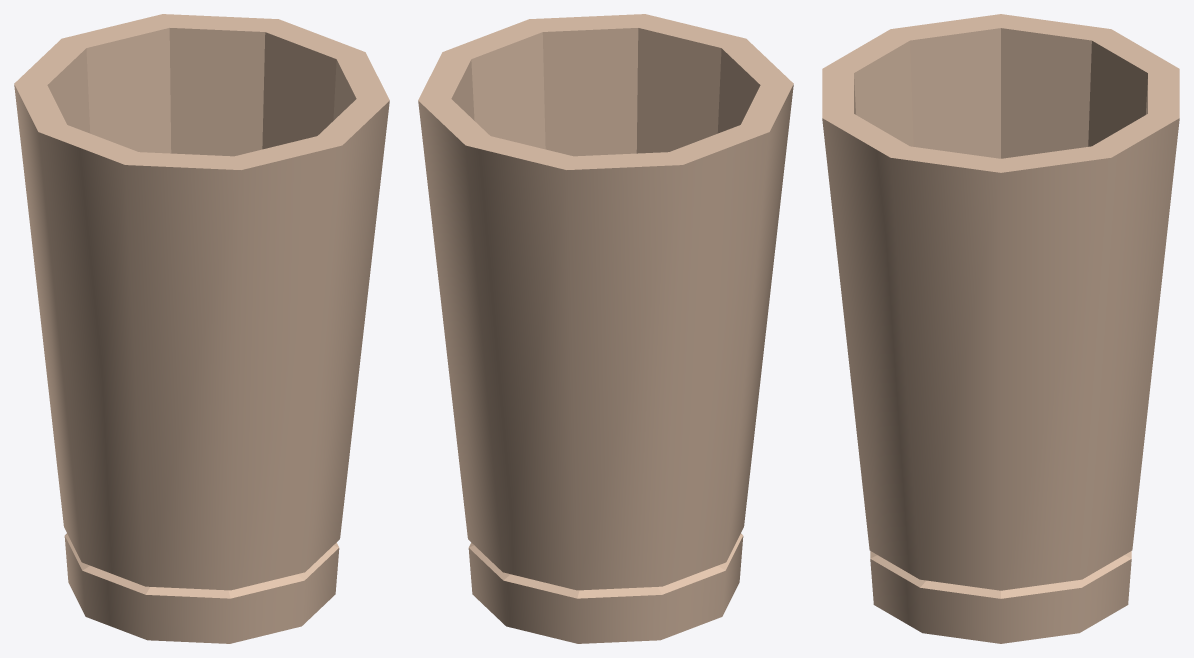
Rendered from SM_plastic_cup_01.fbx.
3 views of the same model, side by side, from view 1: azimuth 30°, elevation 25°; view 2: azimuth 150°, elevation 25°; view 3: azimuth 270°, elevation 25° (orthographic).
Visible parts, largest first — view 1: plastic_cup01; view 2: plastic_cup01; view 3: plastic_cup01.
Boxes of the visible parts, x1=… form: plastic_cup01: x1=14, y1=14, x2=389, y2=643; plastic_cup01: x1=418, y1=14, x2=793, y2=643; plastic_cup01: x1=822, y1=14, x2=1179, y2=643.
Size of the model in its own units: 11.58 by 16.89 by 11.01.
